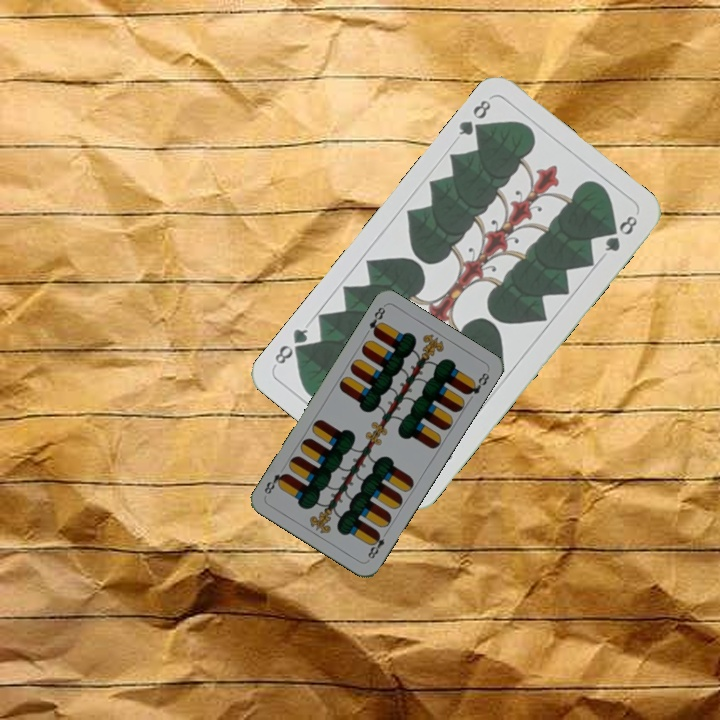E8: (364, 527, 391, 562), (365, 303, 388, 338)
G8: (454, 95, 494, 140)
